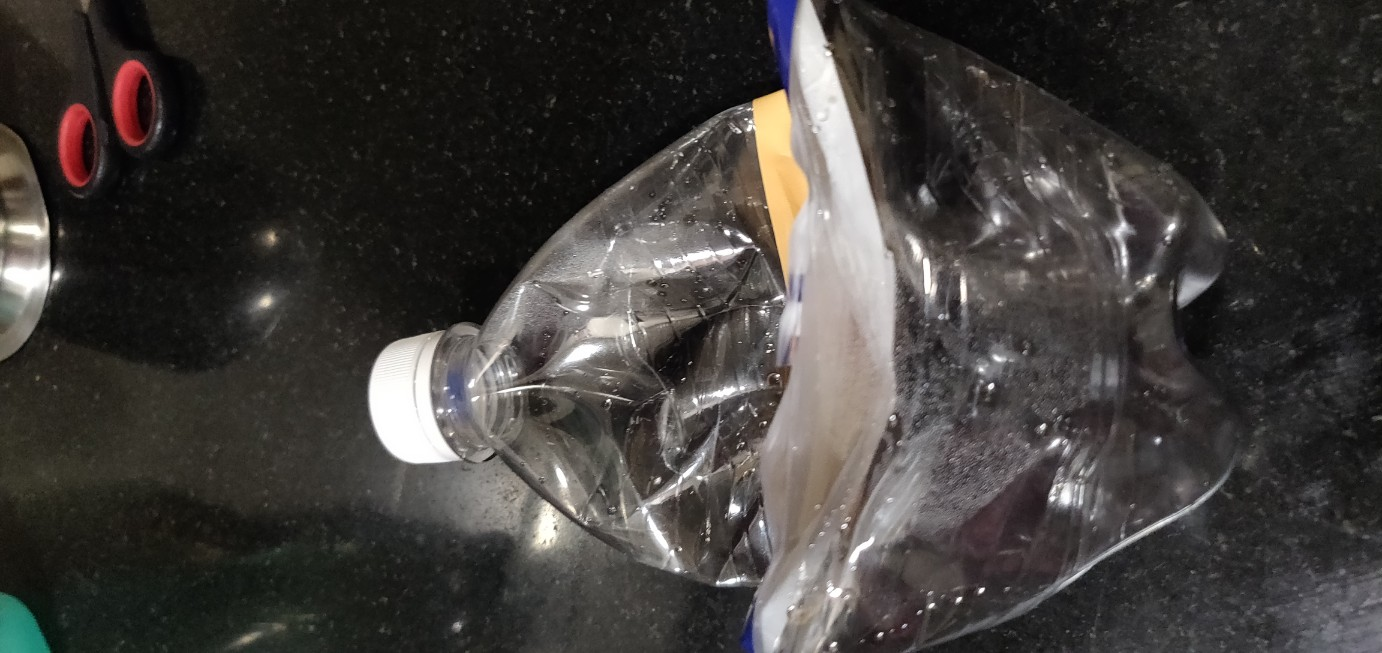Electronics: (349, 1, 1329, 651)
